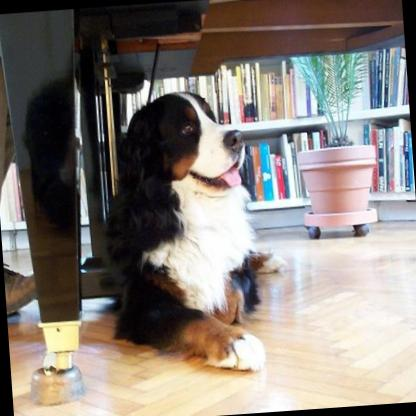Bernese_mountain_dog: (94, 84, 292, 378)
